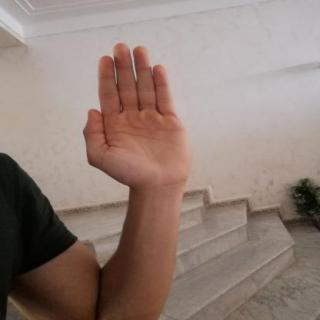SEEN: (72, 36, 200, 198)
